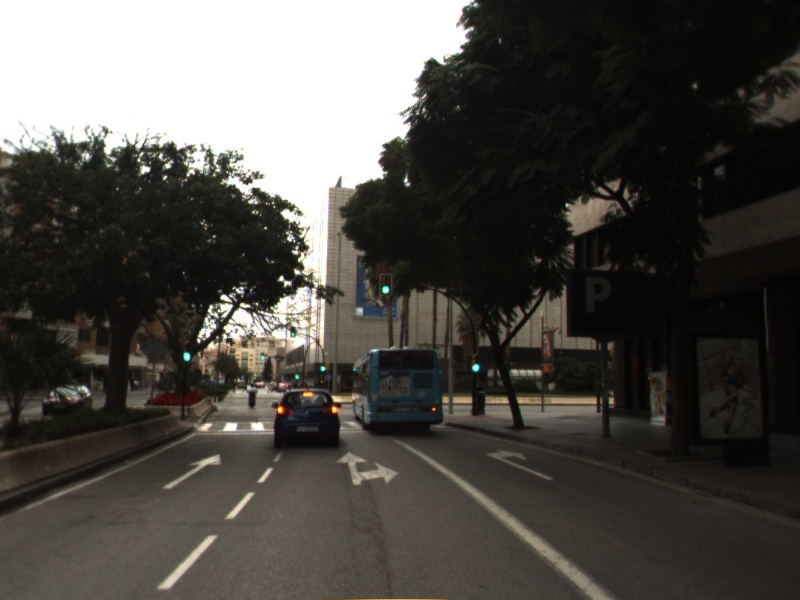RIGHT: (482, 446, 556, 482)
STRAIGHT: (159, 451, 225, 492)
STRAIGHT_RIGHT: (333, 449, 402, 488)
